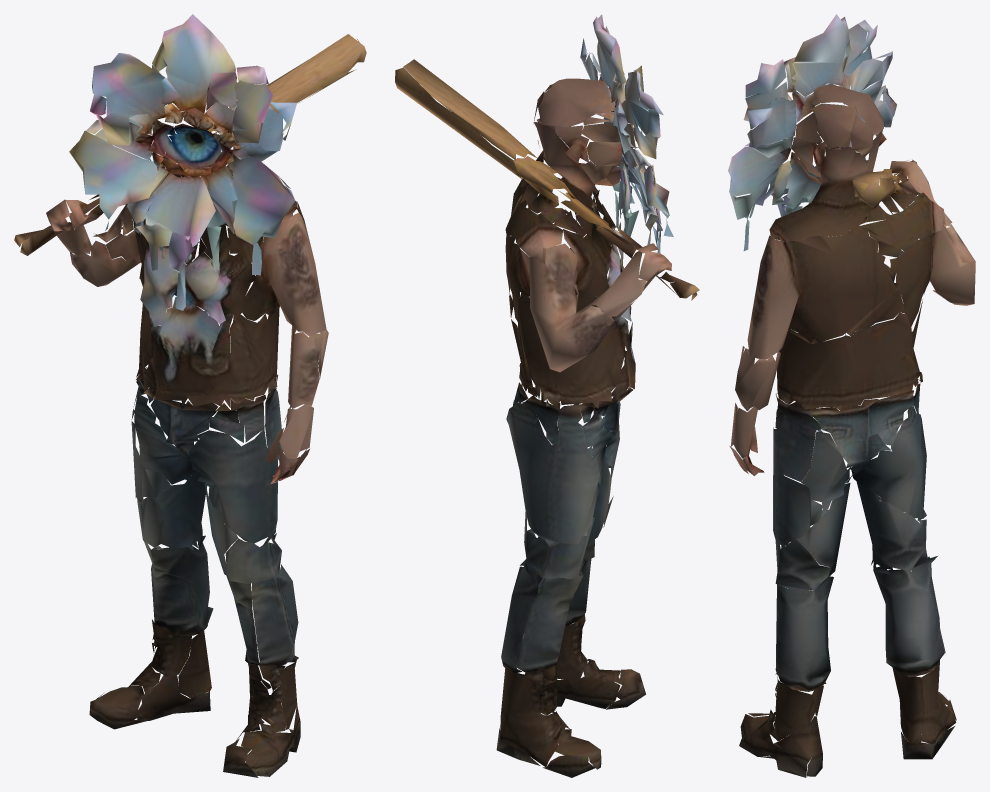
File: cast_tough.glb
3 renders of one model, left to right at view 1: azimuth 30°, elevation 25°; view 2: azimuth 150°, elevation 25°; view 3: azimuth 270°, elevation 25°, orthographic. The views are drawn at different scales.
Visible parts, largest first — view 1: tripo_node_533e37fd-5cc7-4275-9052-2d8a21aa2958; view 2: tripo_node_533e37fd-5cc7-4275-9052-2d8a21aa2958; view 3: tripo_node_533e37fd-5cc7-4275-9052-2d8a21aa2958.
Part boxes in pixels (x1=…): tripo_node_533e37fd-5cc7-4275-9052-2d8a21aa2958: x1=14, y1=14, x2=366, y2=777; tripo_node_533e37fd-5cc7-4275-9052-2d8a21aa2958: x1=395, y1=14, x2=699, y2=777; tripo_node_533e37fd-5cc7-4275-9052-2d8a21aa2958: x1=728, y1=14, x2=975, y2=777.
Size of the model in its own units: 0.4654 by 1.01 by 0.3116.
Materials: 1 (1 with a texture image).
